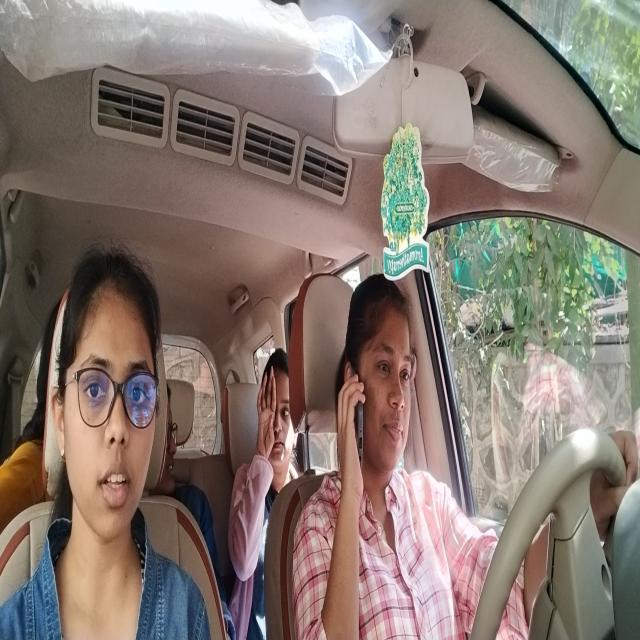mobile: (347, 384, 373, 485)
person: (56, 240, 160, 532), (348, 276, 415, 492), (265, 347, 298, 472), (163, 375, 181, 486)
